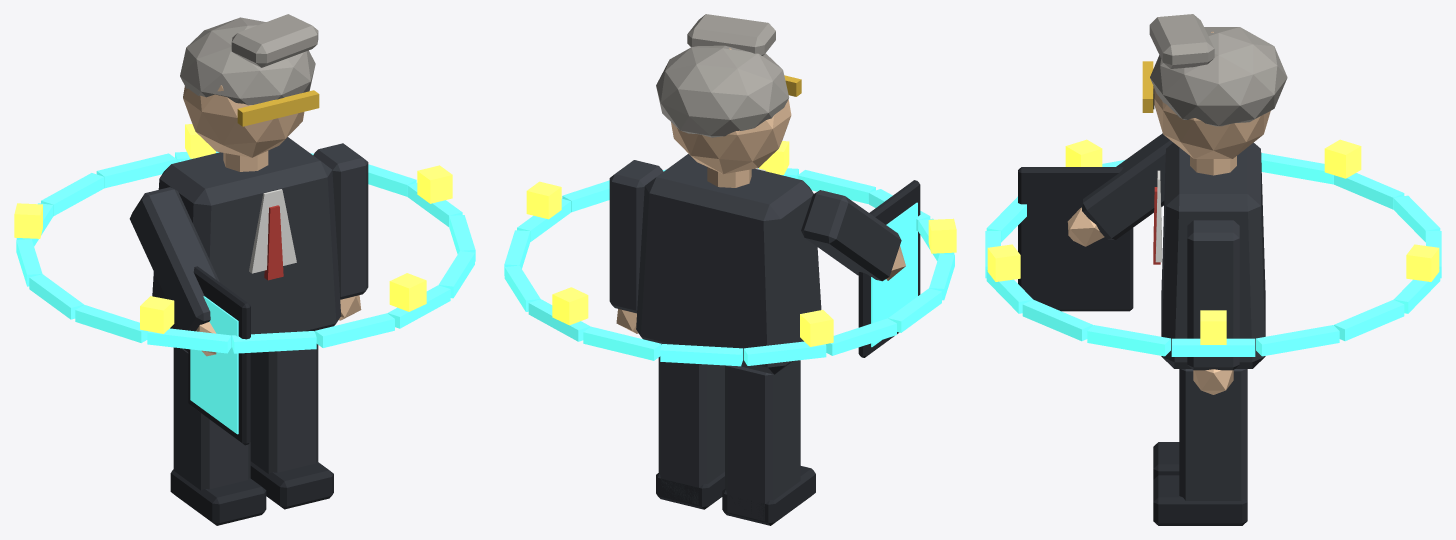
The model's file is finalreview.glb.
3 renders of one model, left to right at view 1: azimuth 30°, elevation 25°; view 2: azimuth 150°, elevation 25°; view 3: azimuth 270°, elevation 25°, orthographic. The views are drawn at different scales.
Parts seen in each view (by area): view 1: Body, Props, ArmR, LegL, LegR, ArmL; view 2: Body, Props, LegR, ArmR, LegL, ArmL; view 3: Body, Props, ArmR, LegL, ArmL, LegR.
Part boxes in pixels (x1,y1,x2,y2): Body: [152, 14, 341, 353]; Props: [14, 90, 475, 353]; ArmR: [129, 187, 250, 445]; LegL: [250, 344, 333, 509]; LegR: [170, 347, 266, 525]; ArmL: [313, 143, 368, 320]; Body: [636, 14, 821, 374]; Props: [504, 75, 956, 366]; LegR: [722, 360, 815, 525]; ArmR: [801, 180, 920, 357]; LegL: [656, 356, 724, 509]; ArmL: [609, 160, 663, 333]; Body: [1149, 14, 1287, 368]; Props: [985, 61, 1441, 356]; ArmR: [1018, 133, 1172, 311]; LegL: [1153, 369, 1247, 525]; ArmL: [1187, 220, 1239, 394]; LegR: [1153, 442, 1179, 479].
Size of the model in its own units: 1.36 by 1.55 by 1.35.
